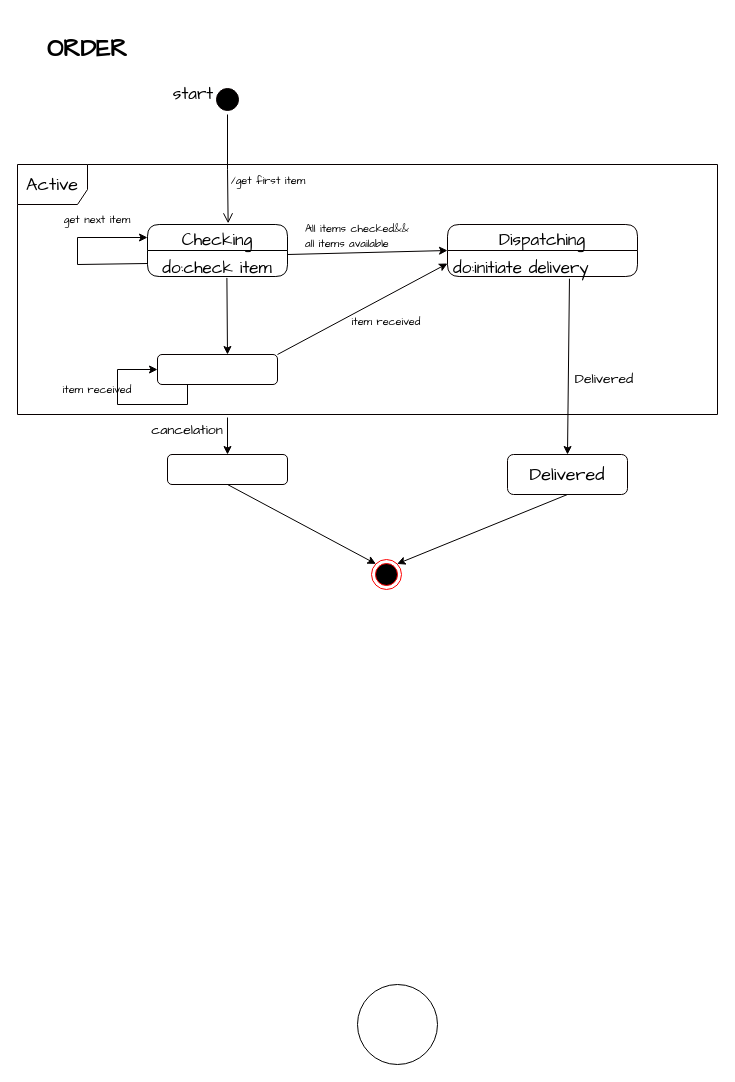
The diagram is 735 pixels wide and 1082 high, and some of its shapes have lost their labels. The shapes that lost their labels are listed below. From the top down, each one's centre as x and y in pixels, then its label:
At pixel 217 369: "Waiting".
At pixel 227 469: "Cancelled".
